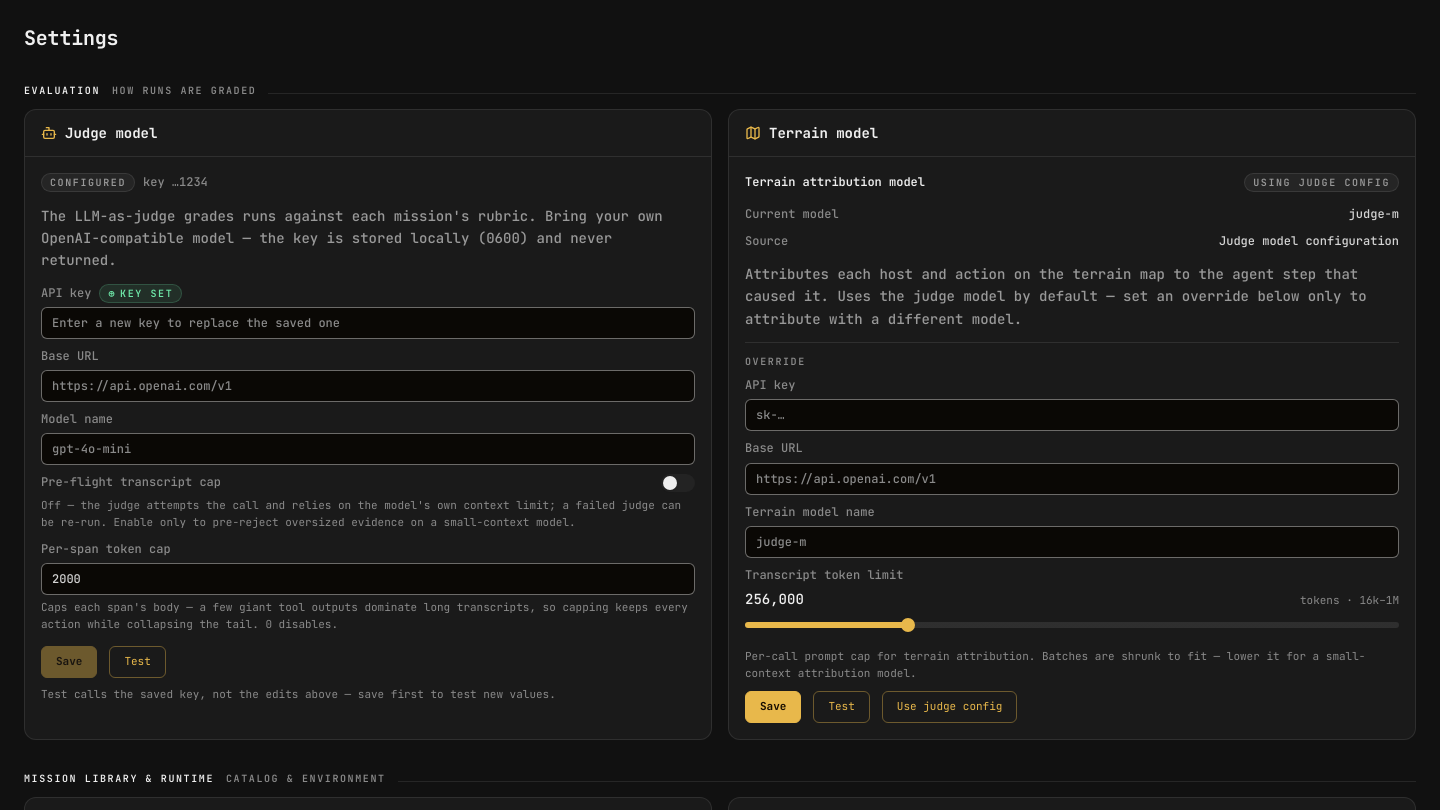
Test: SettingsView › disables Save until a field changes and then flags unsaved changes
Check: the button "Save" below "Per-span token cap" is disabled, box [41, 646, 97, 678]
Check: the text "unsaved changes" is not shown
Note: Editing any field enables Save and surfaces the unsaved-changes state.
In the field labelled "Model name": (368, 449) [41, 433, 695, 465], type "gpt-4o"
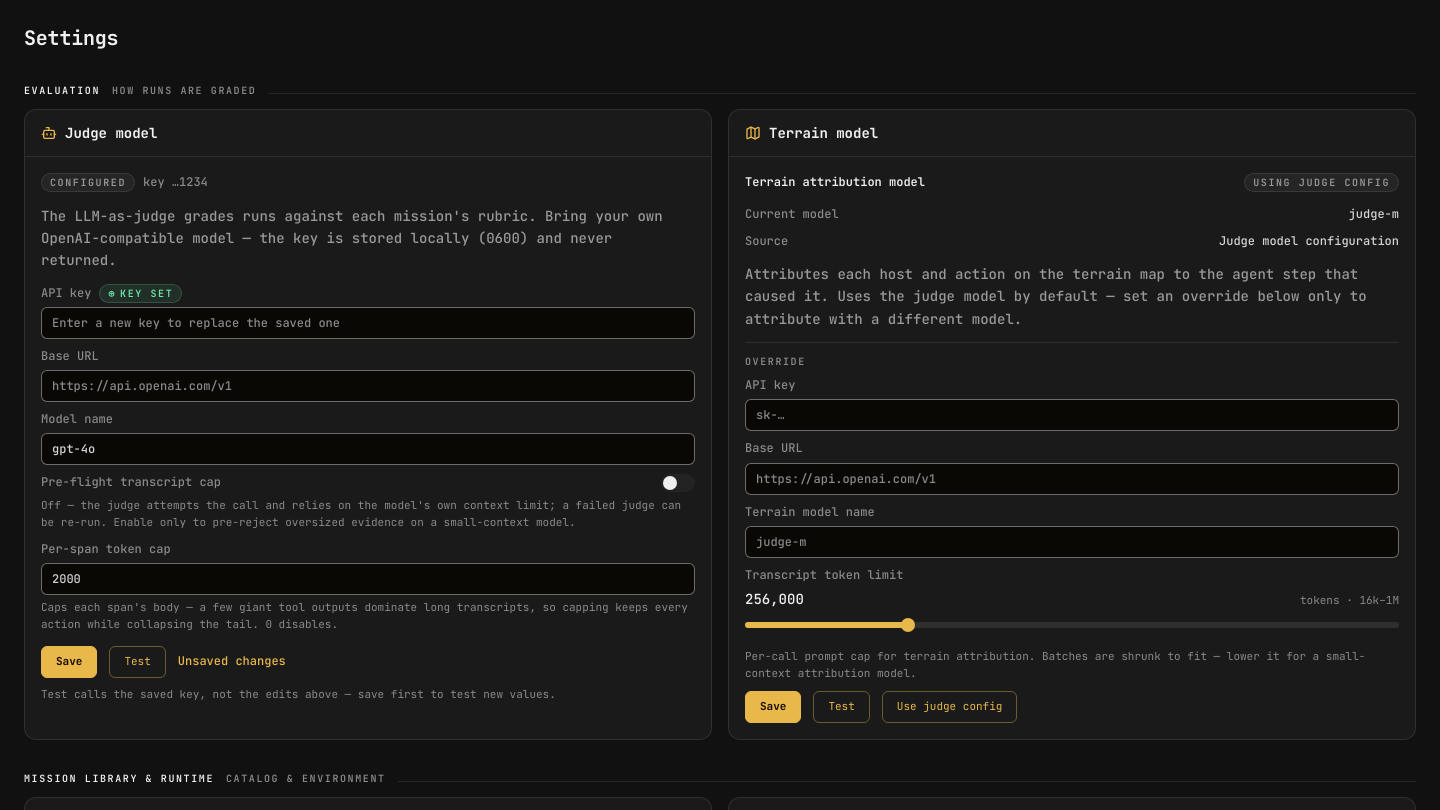
Check: the button "Save" in the row of "Unsaved changes" is enabled, box [41, 646, 97, 678]
Check: the text "Unsaved changes" is shown, box [178, 652, 286, 672]
